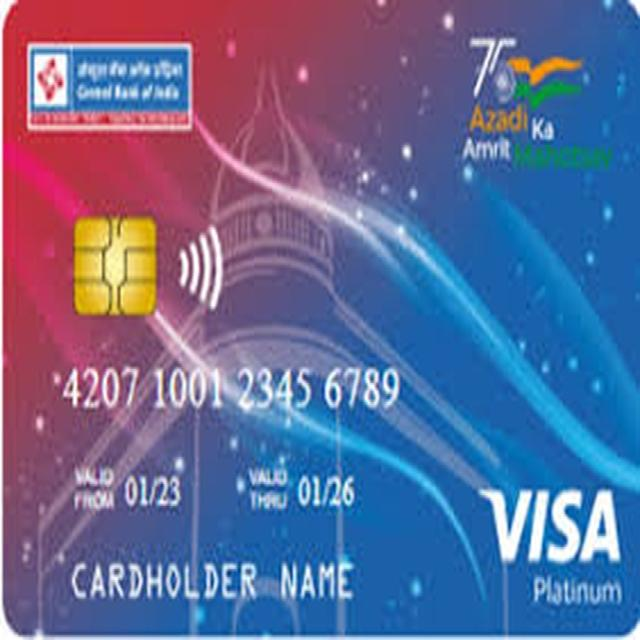card: (5, 6, 635, 624)
